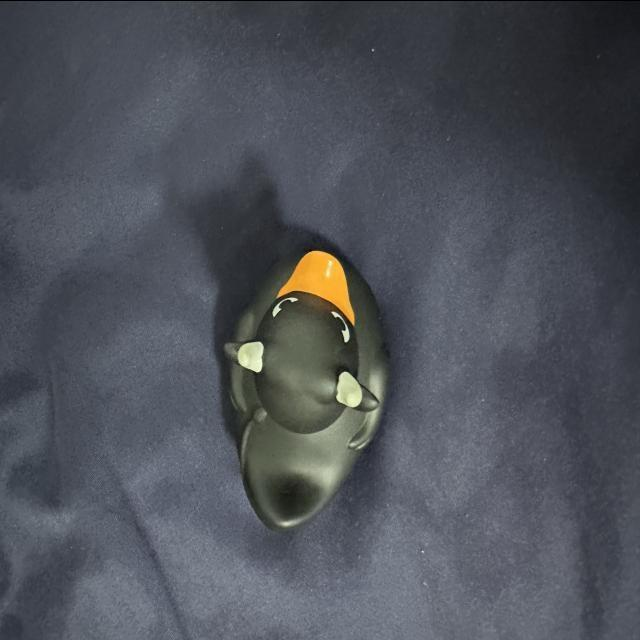rubber-duck: (224, 246, 386, 528)
